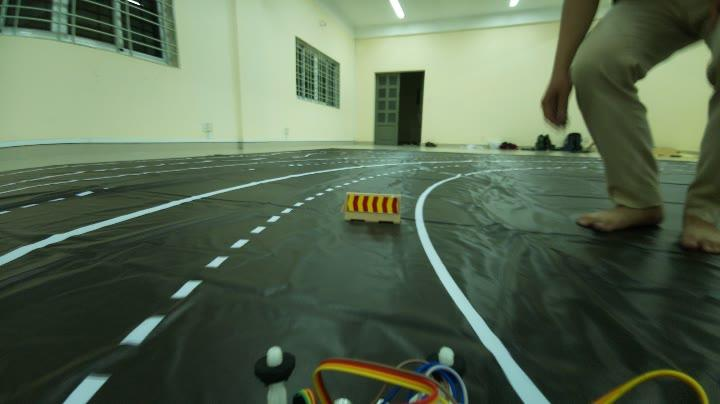roadblock: (337, 186, 410, 227)
